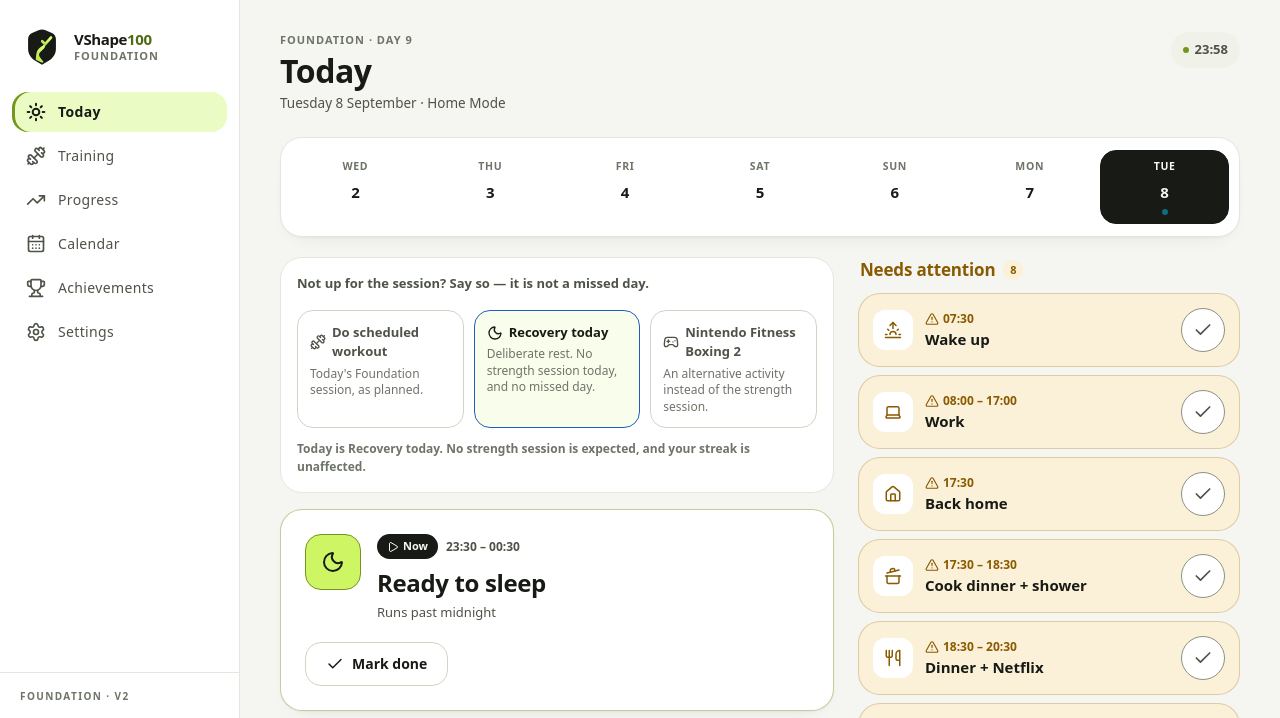
Test case: 3. busy, error and duplicate-write behaviour › keeps the last persisted truth when a save fails
This screenshot has width=1280, height=718.
Expected: the heading "Today" is shown, [280,48,372,92]
Click the radio button labelled "Nintendo Fitness Boxing 2" at (734, 369), box [650,310,817,428]
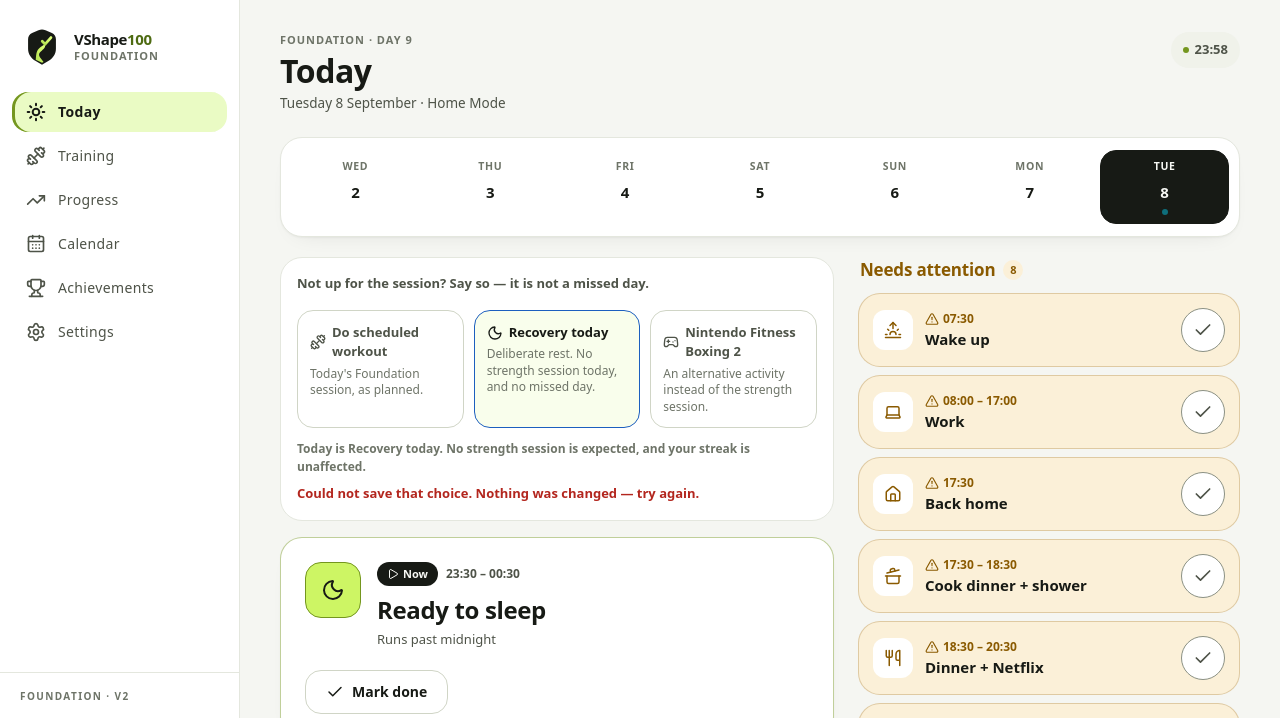
Now the message "Could not save that choice. Nothing was changed — try again." is shown, box [297,484,699,502]
